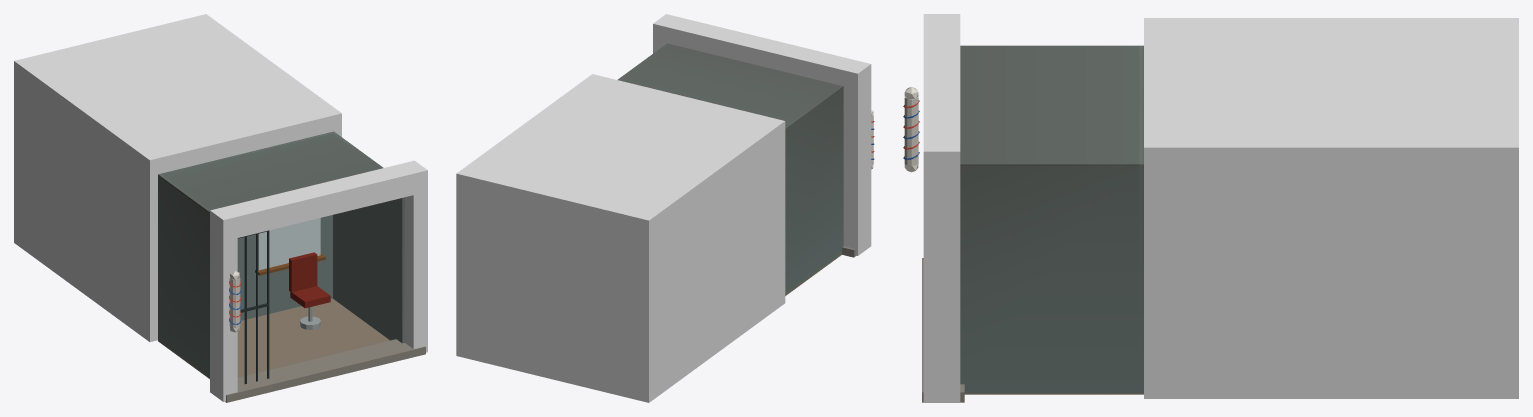
File: tret_hot_toc_40.glb
The picture shows the model from 3 angles, left to right: view 1: azimuth 30°, elevation 25°; view 2: azimuth 150°, elevation 25°; view 3: azimuth 270°, elevation 25°; orthographic projection. The views are drawn at different scales.
Visible parts, largest first — view 1: tret_hot_toc_40; view 2: tret_hot_toc_40; view 3: tret_hot_toc_40.
Boxes of the visible parts, bbox=[...] form: tret_hot_toc_40: bbox=[14, 14, 427, 402]; tret_hot_toc_40: bbox=[456, 14, 874, 402]; tret_hot_toc_40: bbox=[903, 14, 1518, 402].
Bounding box in the file's own units: 4 × 3.42 × 7.55.
